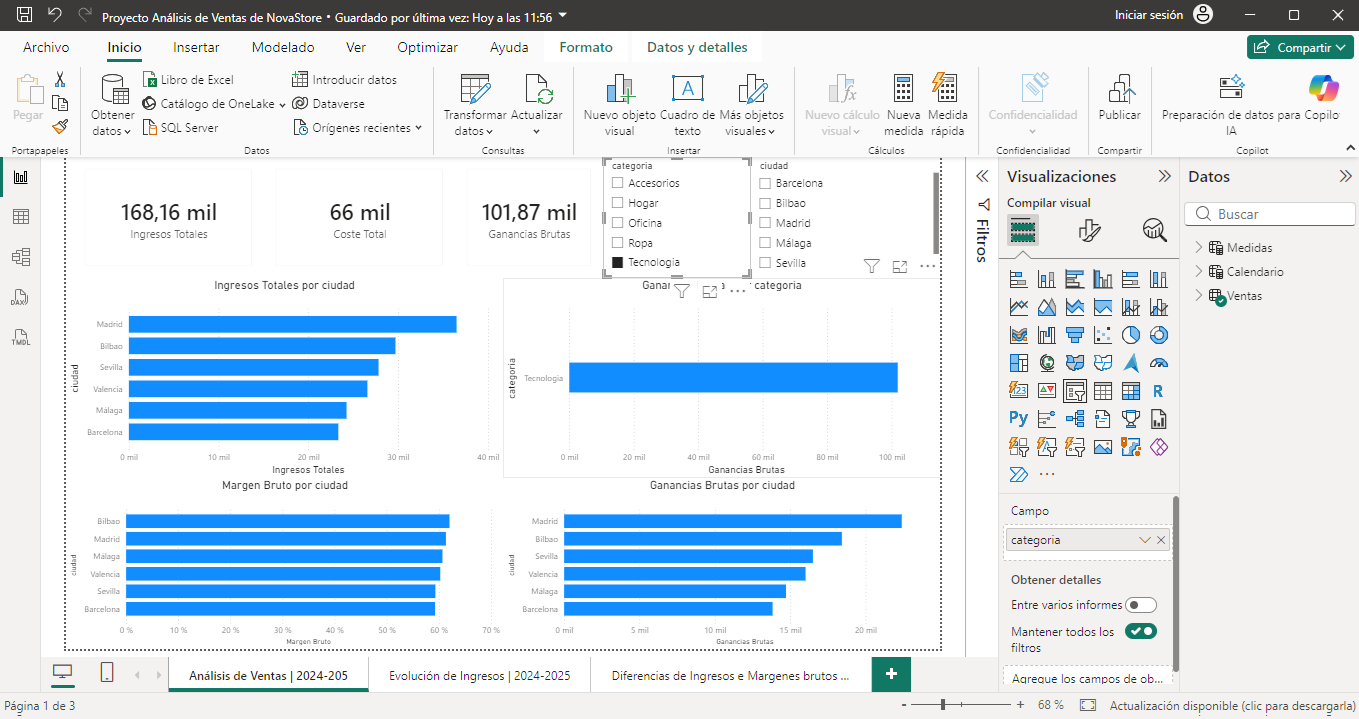

The page's visual inventory and layout, read from the dashboard file:
{"tool":"powerbi","page":{"name":"Análisis de Ventas | 2024-205","canvas":[1280,720],"ordinal":0},"visuals":[{"type":"cardVisual","fields":{"Data":["Medidas.Ingresos Totales"]},"box":[10.2,0,279.4,177.8],"z":0},{"type":"cardVisual","fields":{"Data":["Medidas.Coste Total"]},"box":[289.8,0,279.5,177.1],"z":1000},{"type":"cardVisual","fields":{"Data":["Medidas.Ganancias Brutas"]},"box":[569.3,0,216.6,177.1],"z":2000},{"type":"slicer","fields":{"Values":["Ventas.ciudad"]},"box":[1002.4,0,279.5,177.1],"z":3000},{"type":"clusteredBarChart","fields":{"Category":["Ventas.ciudad"],"Y":["Medidas.Ingresos Totales"]},"box":[0,177.1,639.5,292.7],"z":4000},{"type":"clusteredBarChart","fields":{"Y":["Medidas.Ganancias Brutas"],"Category":["Ventas.categoria"]},"box":[639.5,177.1,641,292.7],"z":5000},{"type":"slicer","fields":{"Values":["Ventas.categoria"]},"box":[785.9,0,216.6,177.1],"z":6000},{"type":"clusteredBarChart","fields":{"Category":["Ventas.ciudad"],"Y":["Medidas.Ganancias Brutas"]},"box":[641,469.8,639.5,250.2],"z":7000},{"type":"clusteredBarChart","fields":{"Category":["Ventas.ciudad"],"Y":["Medidas.Margen Bruto"]},"box":[0,469.8,641,250.2],"z":8000}]}

Visuals, with their boxes on the page's 1280x720 design canvas (x1, y1, x2, y2). These are canvas units, not pixel positions in the 1359x719 screenshot, which may show the page scaled, cropped or inside an application window:
cardVisual - Medidas.Ingresos Totales: (x1=10, y1=0, x2=290, y2=178)
cardVisual - Medidas.Coste Total: (x1=290, y1=0, x2=569, y2=177)
cardVisual - Medidas.Ganancias Brutas: (x1=569, y1=0, x2=786, y2=177)
slicer - Ventas.ciudad: (x1=1002, y1=0, x2=1282, y2=177)
clusteredBarChart - Ventas.ciudad x Medidas.Ingresos Totales: (x1=0, y1=177, x2=640, y2=470)
clusteredBarChart - Medidas.Ganancias Brutas x Ventas.categoria: (x1=640, y1=177, x2=1280, y2=470)
slicer - Ventas.categoria: (x1=786, y1=0, x2=1002, y2=177)
clusteredBarChart - Ventas.ciudad x Medidas.Ganancias Brutas: (x1=641, y1=470, x2=1280, y2=720)
clusteredBarChart - Ventas.ciudad x Medidas.Margen Bruto: (x1=0, y1=470, x2=641, y2=720)
